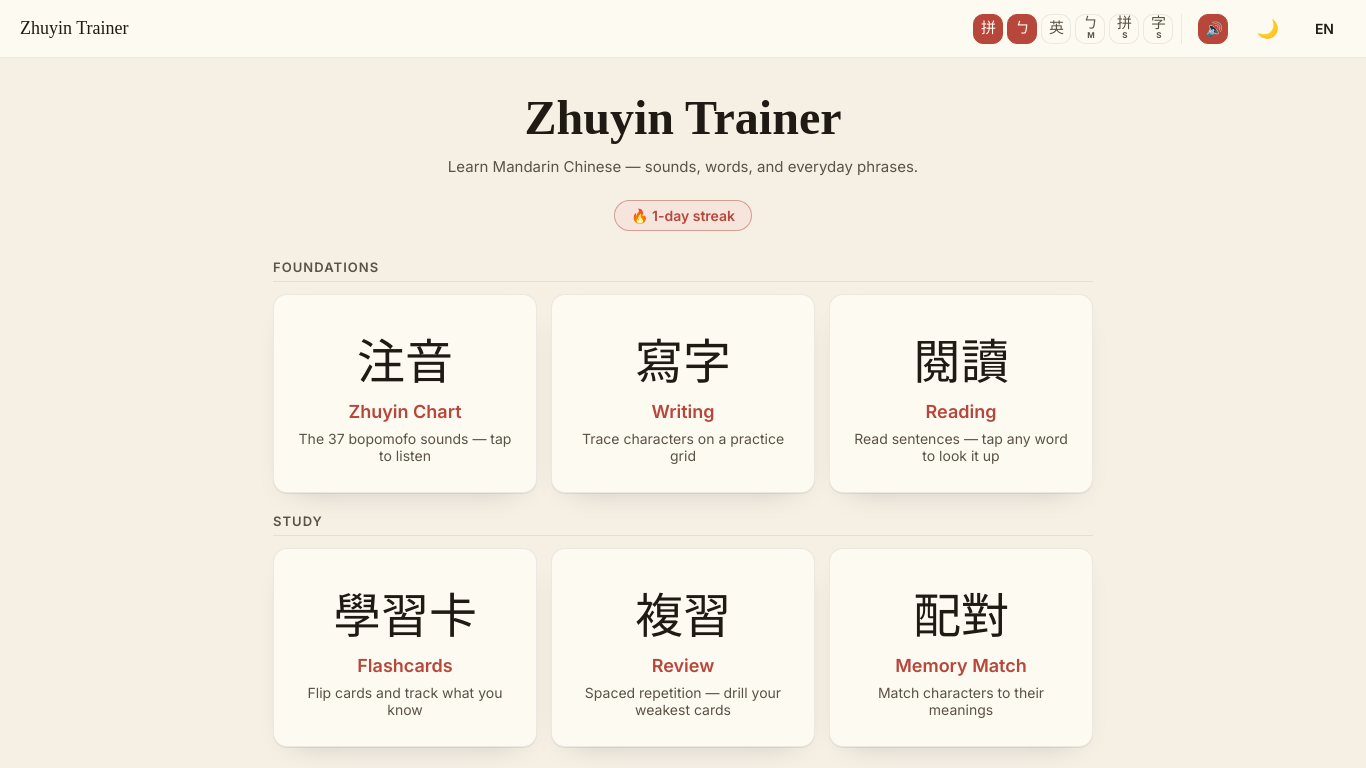
navigates Home → Zhuyin Chart → back
Click the button with class "hs-card" that starts with "Zhuyin Chart".
click(405, 362)  # box top-left (273, 294), bottom-right (537, 493)
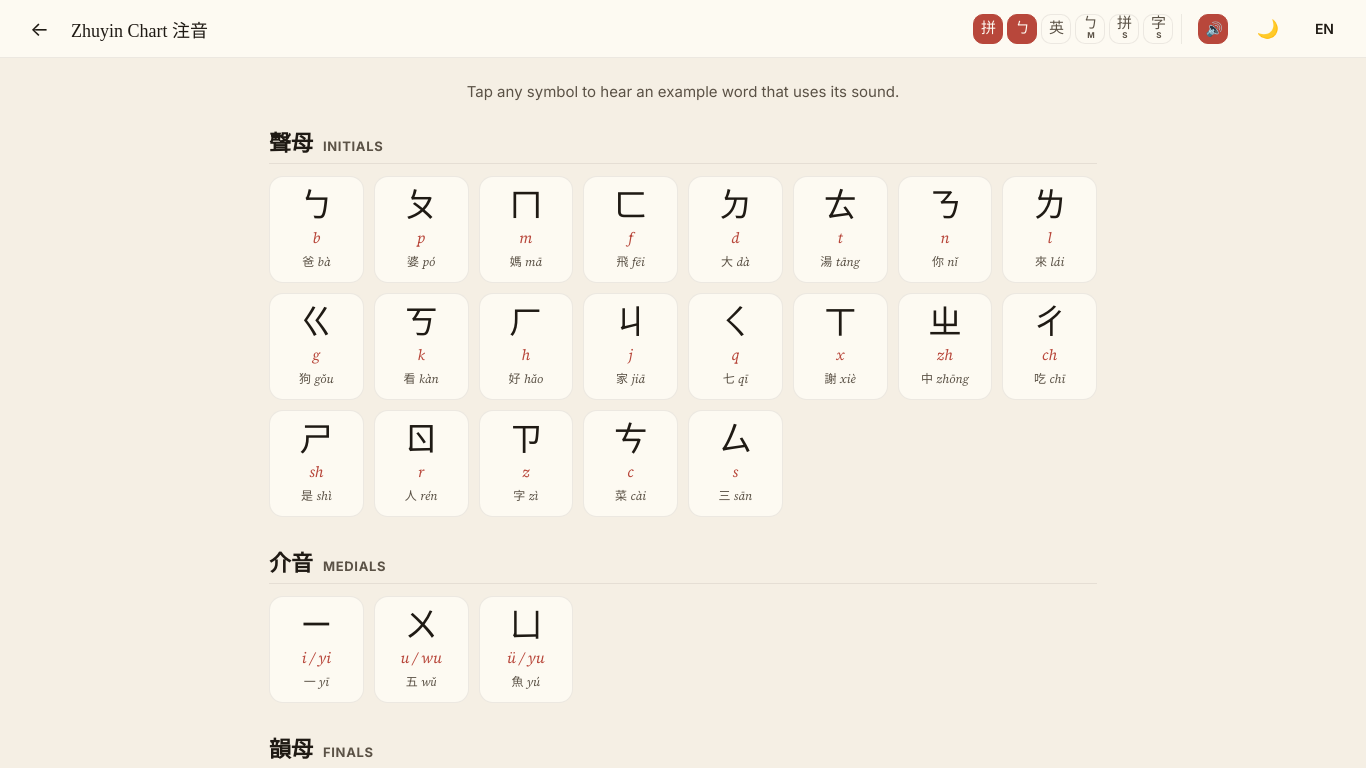
expect the button with class "bp-cell" showing "ㄅ b 爸 bà" is shown: met, box top-left (269, 176), bottom-right (364, 283)
Click the button with class "tb-back".
click(40, 28)  # box top-left (20, 12), bottom-right (59, 44)
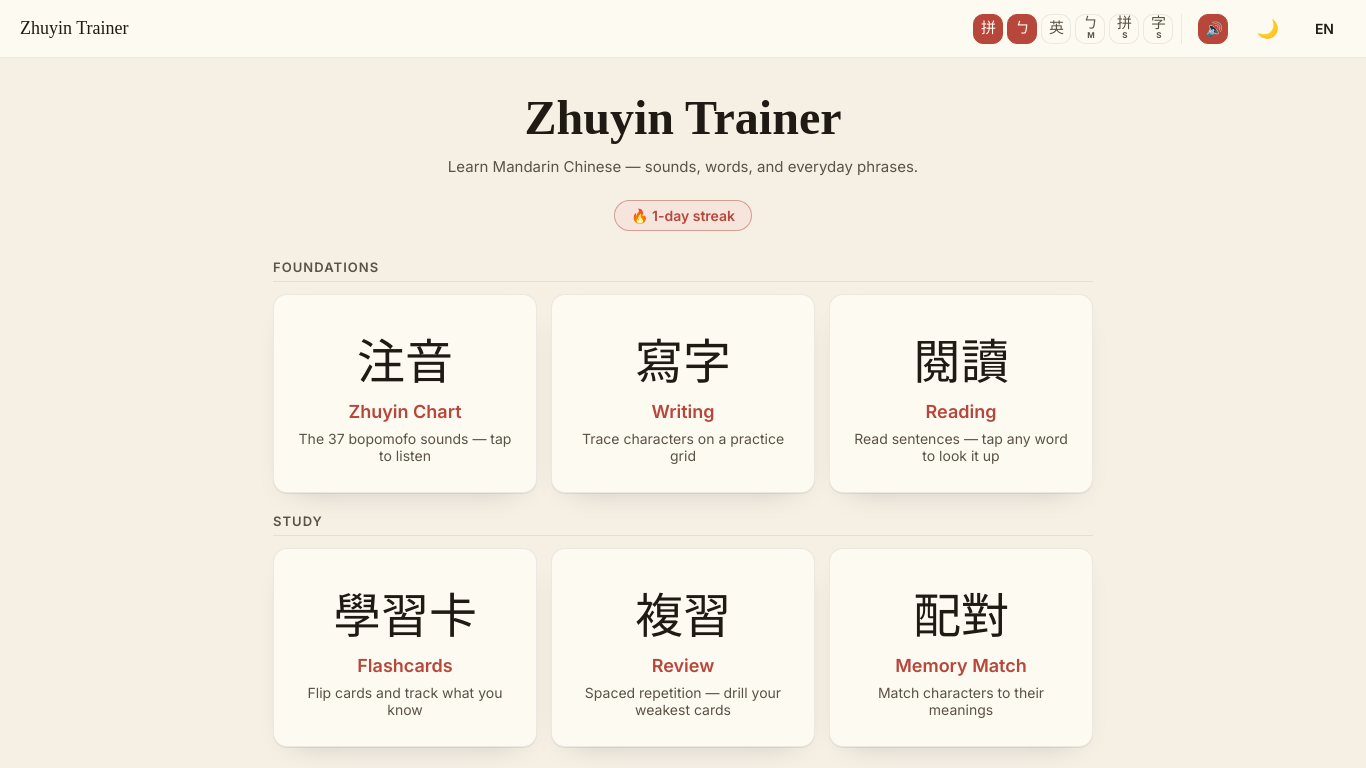
expect the number of buttons with class "hs-card" is 11: met
